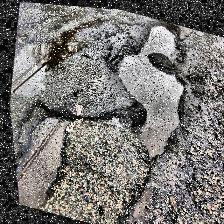pothole: (94, 6, 202, 170), (8, 96, 84, 218)
